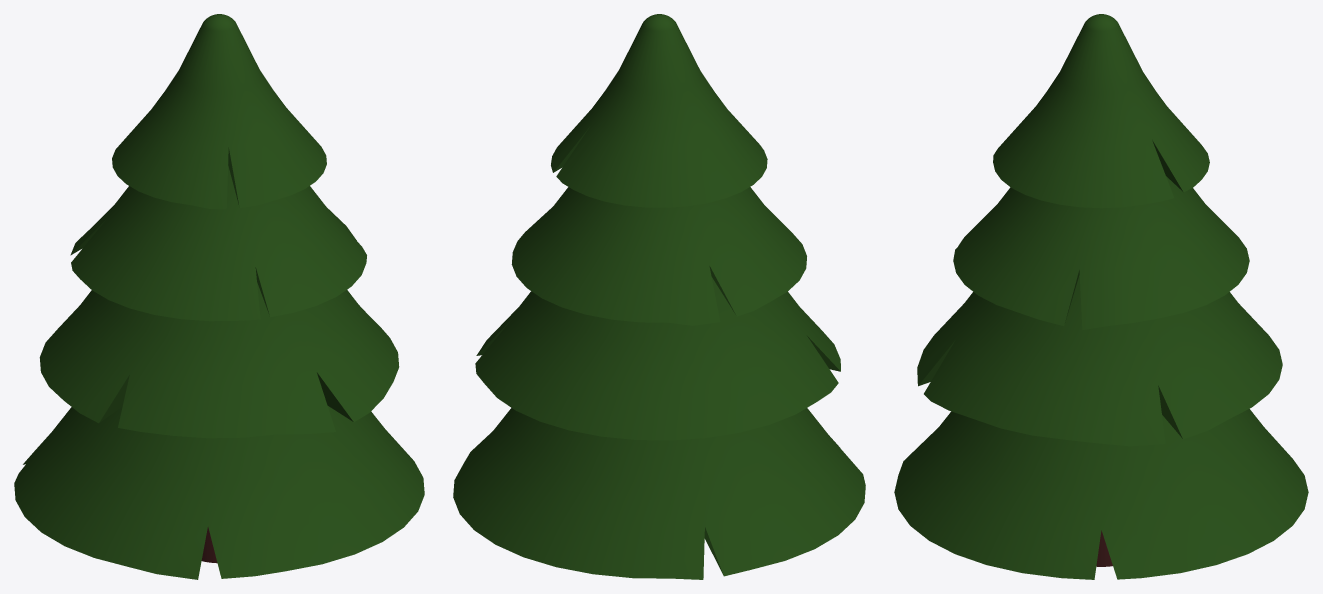
Rendered from Evergreen_Tree.gltf.
The picture shows the model from 3 angles, left to right: view 1: azimuth 30°, elevation 25°; view 2: azimuth 150°, elevation 25°; view 3: azimuth 270°, elevation 25°; orthographic projection.
Visible parts, largest first — view 1: Circle.2066; view 2: Circle.2066; view 3: Circle.2066.
Boxes of the visible parts, left/top/right/bottom form: Circle.2066: left=14, top=14, right=424, bottom=579; Circle.2066: left=453, top=14, right=865, bottom=579; Circle.2066: left=894, top=14, right=1308, bottom=579.
Bounding box in the file's own units: 1.26 × 1.79 × 1.25.
Materials: 1 (1 with a texture image).
